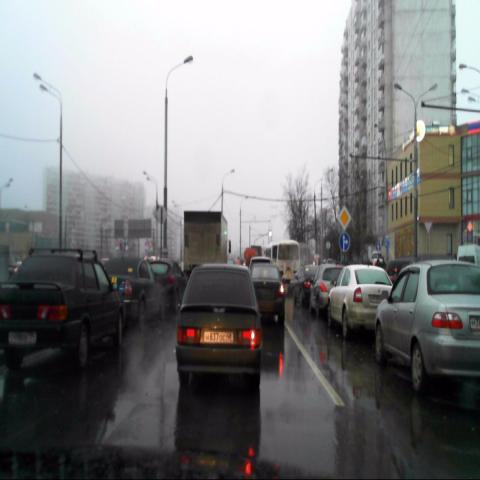2_1: (338, 206, 351, 230)
4_1_4: (338, 233, 350, 252)
